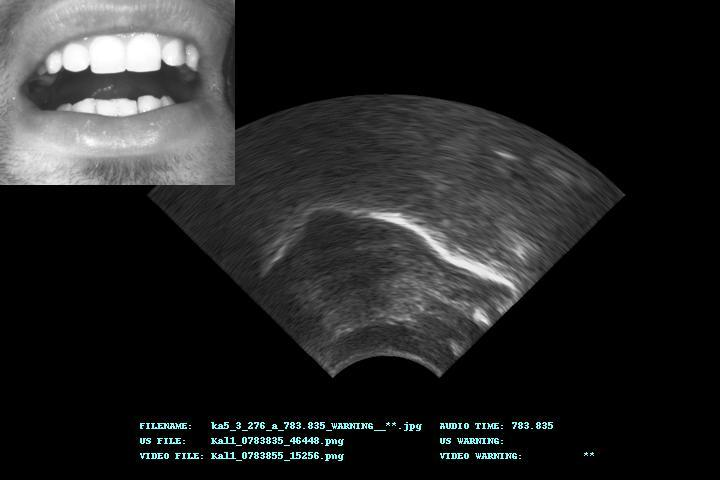-a-: (152, 97, 623, 377)
